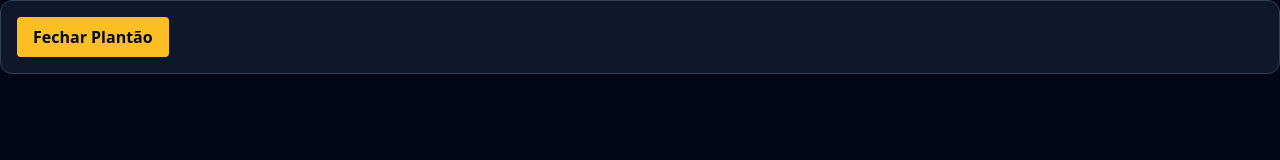
it: mantém erro de banco visível e permite repetir o fechamento sem autenticação
Later steps or results of the test are not shown.
Click the button "Fechar Plantão" at (93, 37), box x1=17 y1=17 x2=169 y2=57
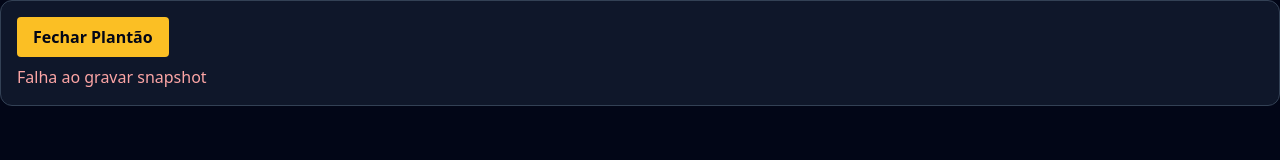
expect the message "Falha ao gravar snapshot" is shown: met, box x1=17 y1=66 x2=207 y2=88
